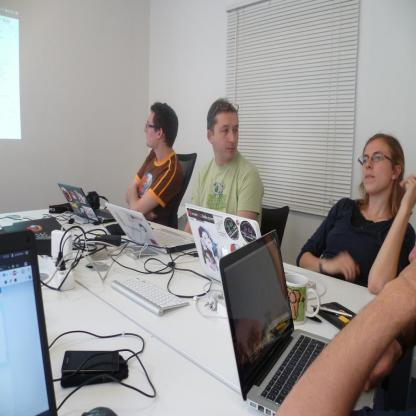board: (216, 221, 350, 415), (0, 228, 58, 416), (184, 202, 262, 285), (106, 202, 196, 255), (57, 184, 116, 224)
